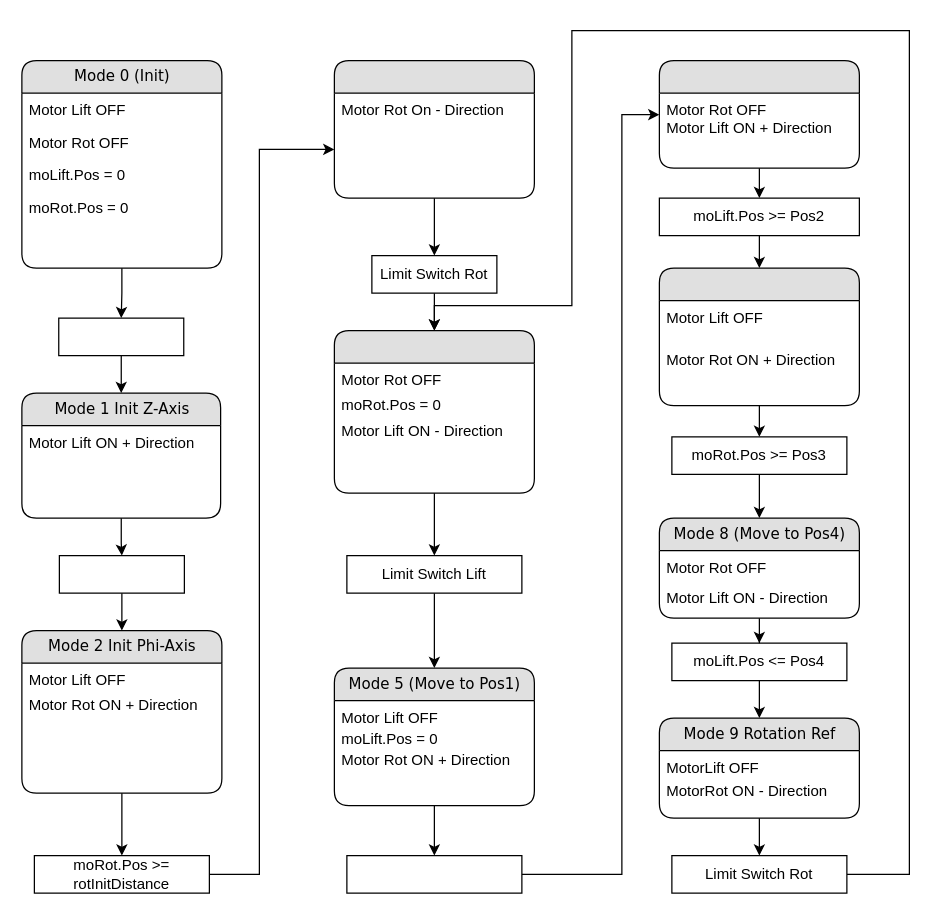
Image size: 941x915. Some labels were removed from this diagram. Each missing label, with the box of its shape:
Button Start: (58, 317, 184, 356)
Mode 3 Rotation Ref: (333, 59, 534, 198)
Mode 4 Lift Ref: (333, 329, 534, 493)
Mode 6 (Move to Pos2): (658, 59, 859, 168)
Mode 7 (Move to Pos3): (658, 267, 859, 406)
moLift.Pos >= liftInitDistance: (58, 554, 184, 593)
moRot.Pos >= Pos1: (346, 854, 522, 893)
